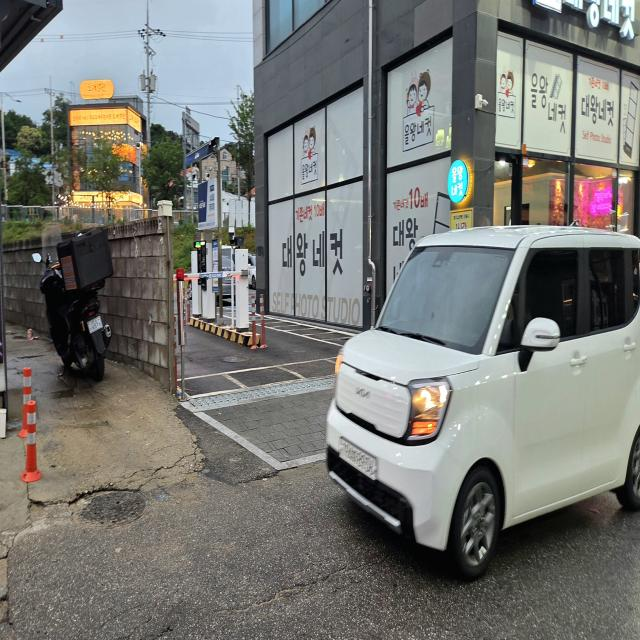car: (317, 182, 640, 580)
motorcycle: (21, 199, 127, 403)
